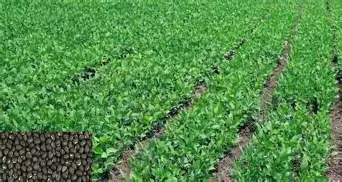crops: (0, 0, 337, 180), (303, 8, 342, 178), (79, 52, 167, 108), (126, 126, 215, 181), (172, 35, 249, 93), (1, 0, 82, 51), (238, 126, 313, 181), (5, 133, 89, 180), (130, 1, 231, 40), (0, 82, 64, 130), (267, 0, 311, 59), (91, 135, 129, 179), (40, 147, 55, 167)
